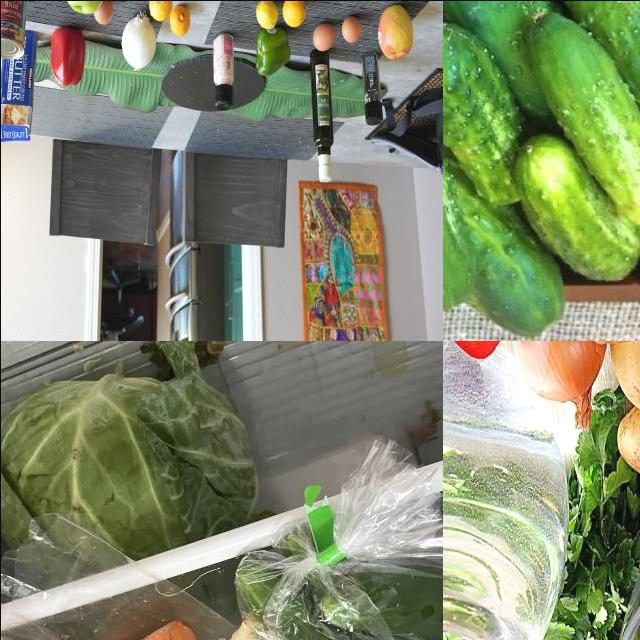bell_pepper: (50, 28, 91, 89), (361, 41, 386, 127), (252, 28, 291, 77)
cabbage: (1, 341, 259, 586)
carrot: (34, 618, 205, 640)
cucumber: (523, 11, 640, 227), (516, 137, 640, 288), (443, 21, 524, 208), (529, 1, 640, 135)
egg: (311, 22, 335, 56), (339, 12, 362, 45), (93, 1, 116, 27)
onion: (508, 341, 611, 436), (120, 9, 157, 72)
potato: (612, 341, 640, 427)
